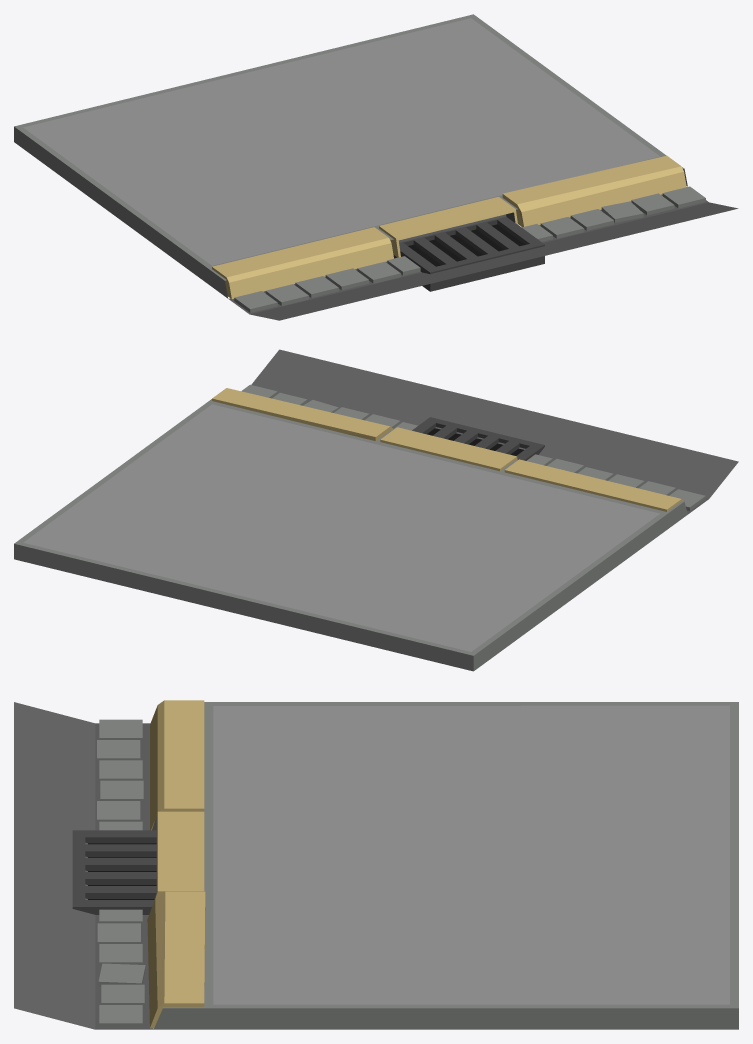
The model's file is SM_sidewalk_01_rainDrain.glb.
3 views of the same model, one above another, from view 1: azimuth 30°, elevation 25°; view 2: azimuth 150°, elevation 25°; view 3: azimuth 270°, elevation 25° (orthographic). The views are drawn at different scales.
Parts seen in each view (by area): view 1: SM_sidewalk_01_rainDrain; view 2: SM_sidewalk_01_rainDrain; view 3: SM_sidewalk_01_rainDrain.
Part boxes in pixels (x1=…): SM_sidewalk_01_rainDrain: x1=14, y1=14, x2=738, y2=320; SM_sidewalk_01_rainDrain: x1=14, y1=349, x2=738, y2=671; SM_sidewalk_01_rainDrain: x1=14, y1=700, x2=738, y2=1029.
Bounding box in the file's own units: 4 × 0.2762 × 4.
Materials: 1 (1 with a texture image).
